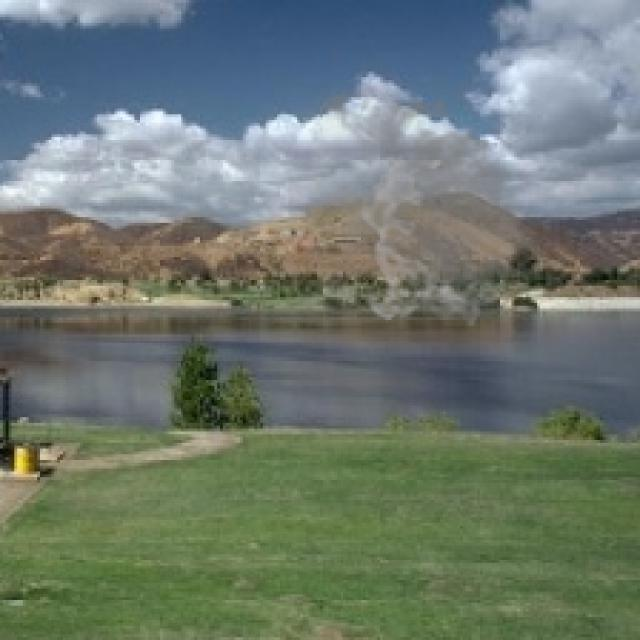smoke: (288, 83, 548, 328)
